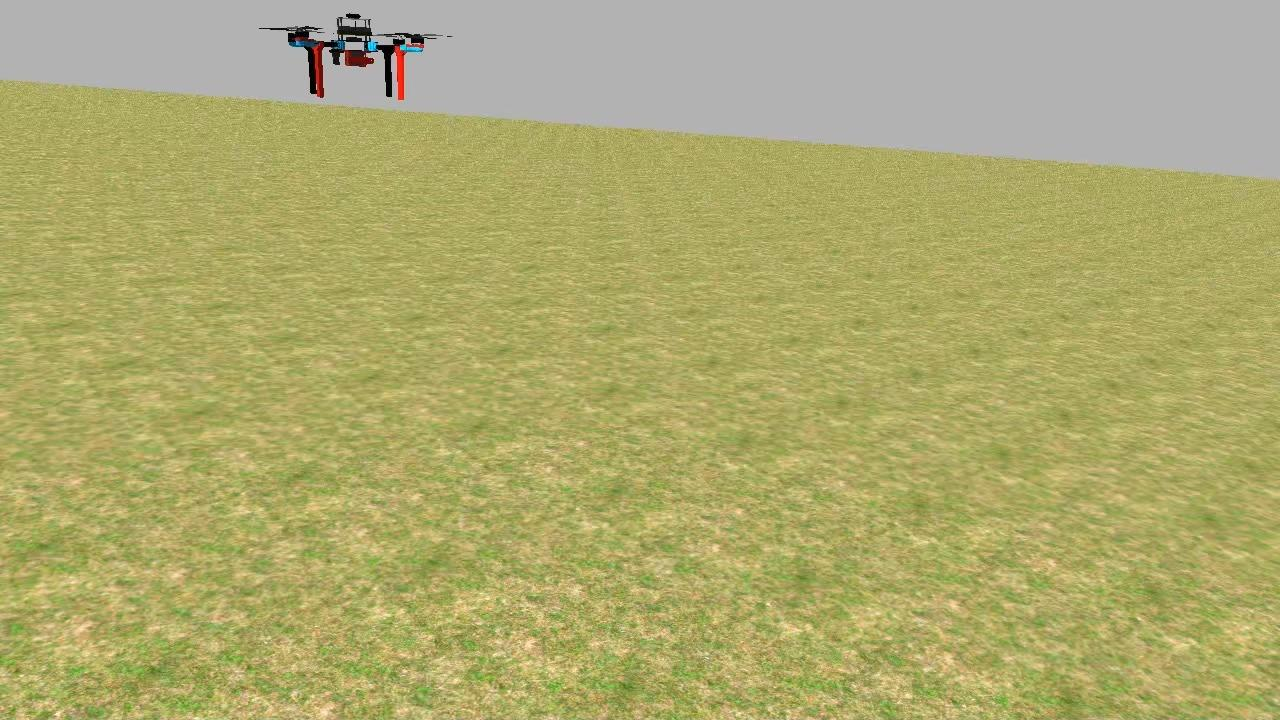UAV: (278, 12, 434, 108)
